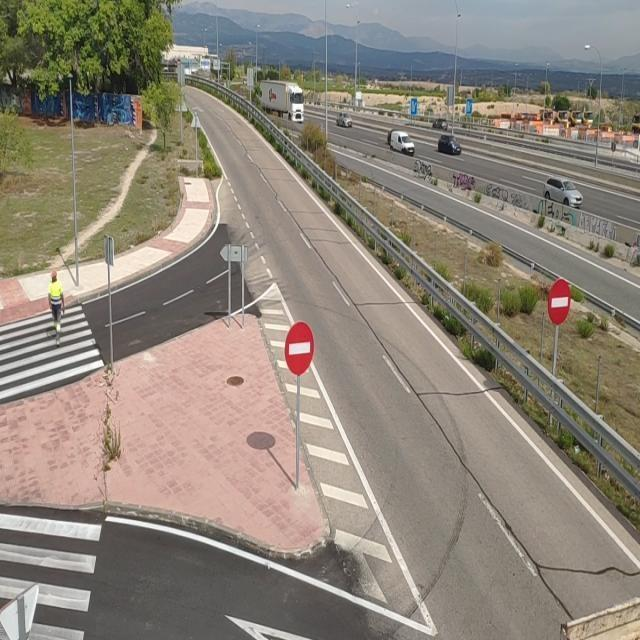Car: (335, 112, 353, 128)
Truck: (260, 78, 305, 126)
Van: (541, 176, 587, 206), (387, 131, 419, 155), (435, 135, 465, 157)
